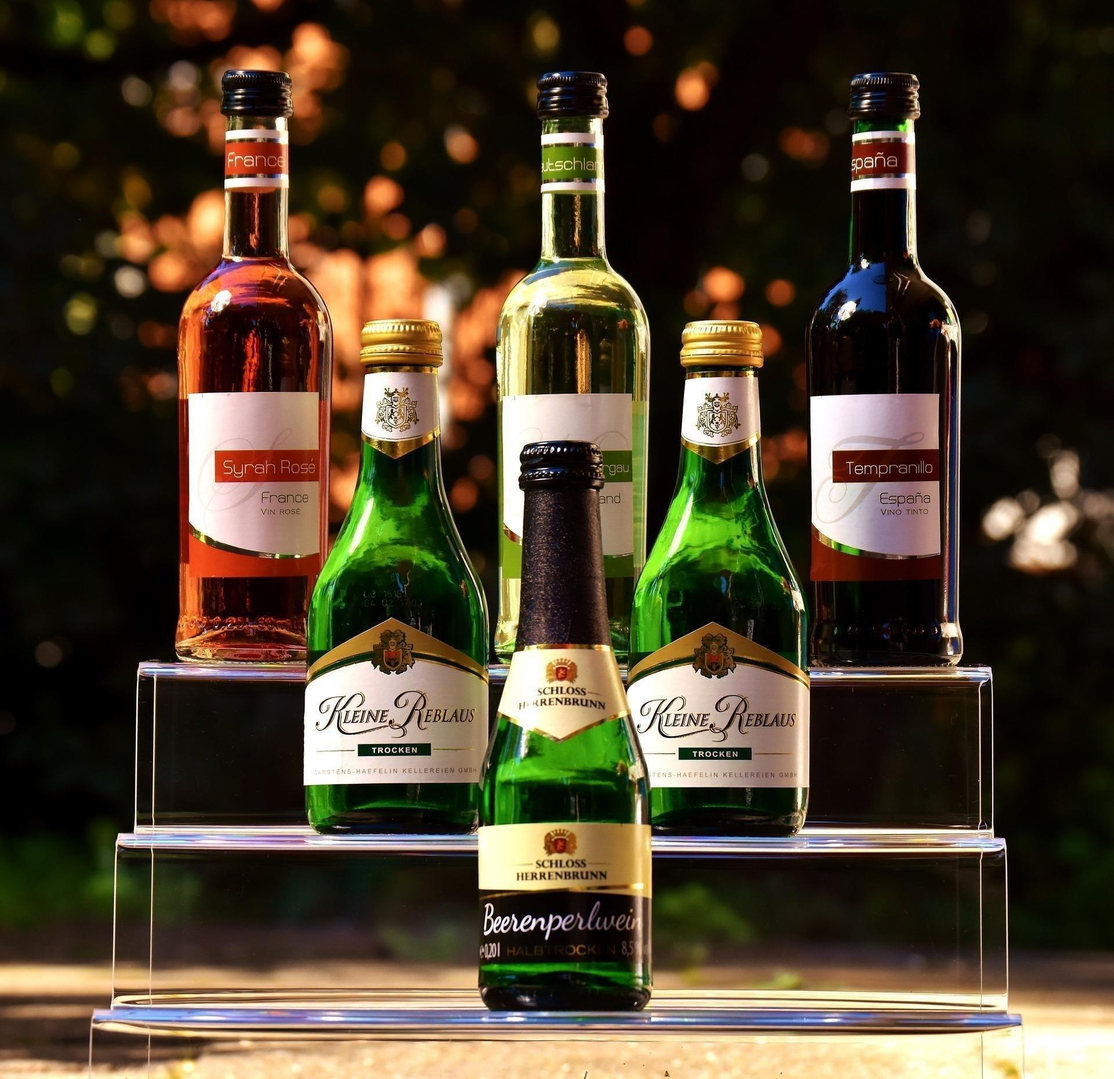bottle-glass: (472, 433, 659, 1019), (296, 311, 498, 851), (804, 67, 970, 675), (490, 70, 654, 682), (173, 66, 332, 663), (628, 322, 808, 847)
